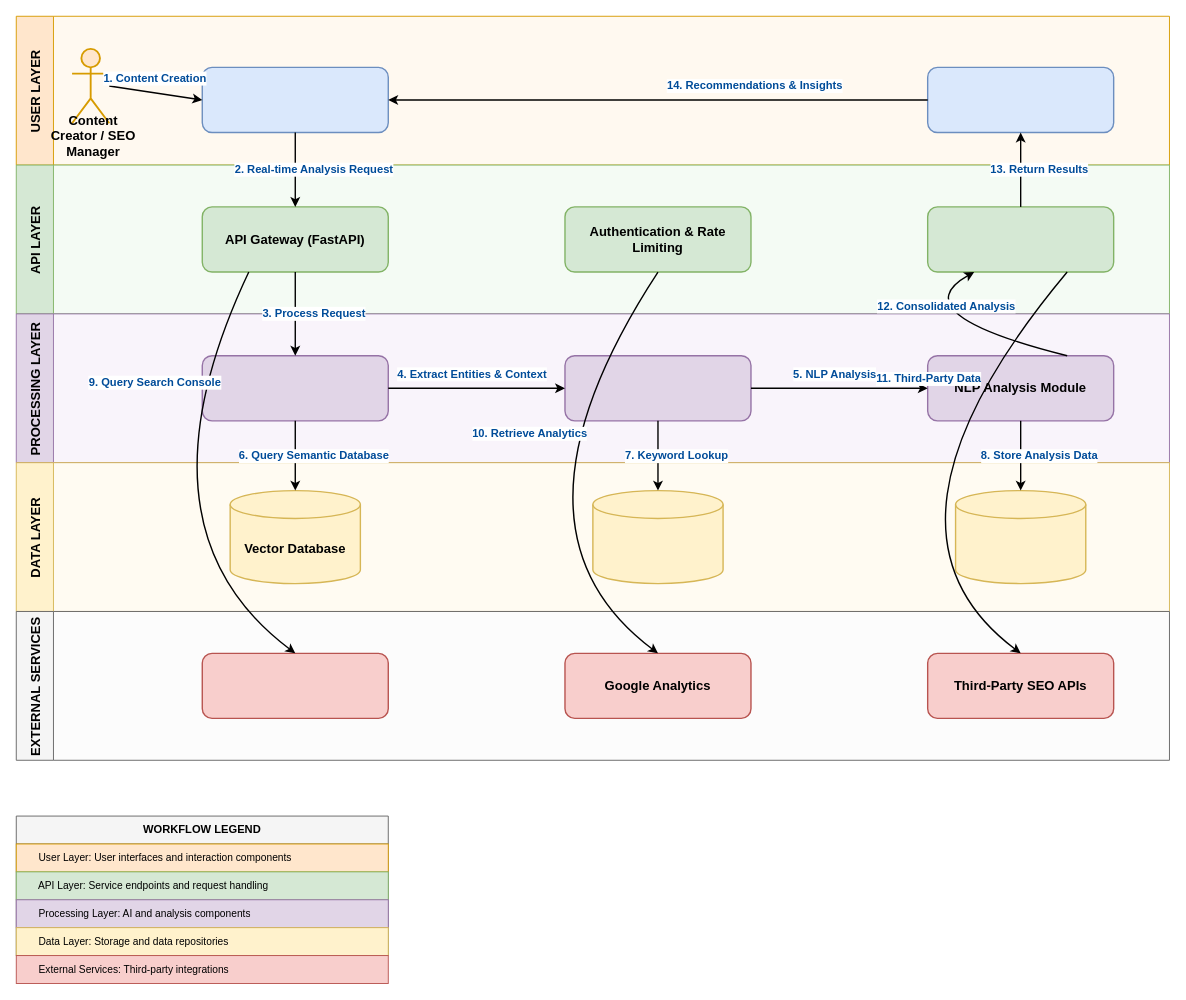
Image size: 1186x1000. Some labels were removed from this diagram. The shapes that lost their labels are listed below. From the top down, each one's centre as x and y in pixels, then its label:
(x=295, y=99): Content Editor Interface
(x=1020, y=99): Analytics Dashboard
(x=1020, y=239): Workflow Orchestrator
(x=295, y=388): AI Engine
(x=657, y=388): LangChain Processor
(x=657, y=536): Keyword Repository
(x=1020, y=536): User Analytics Store
(x=295, y=685): Google Search Console
